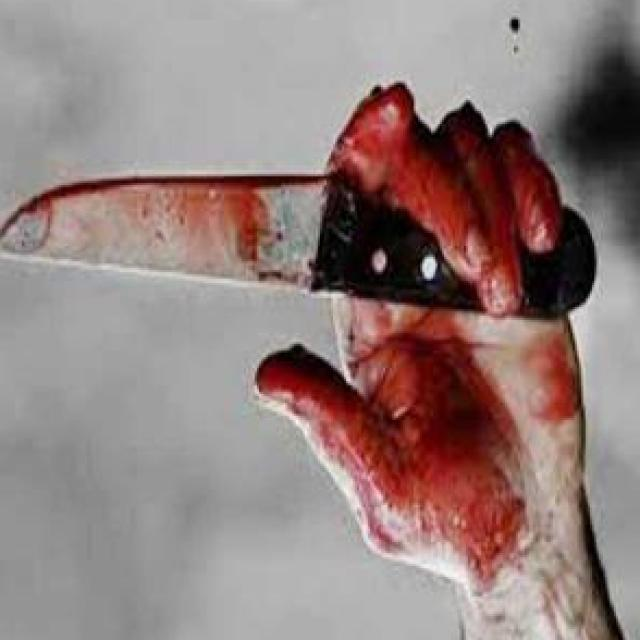knife: (0, 72, 531, 446)
